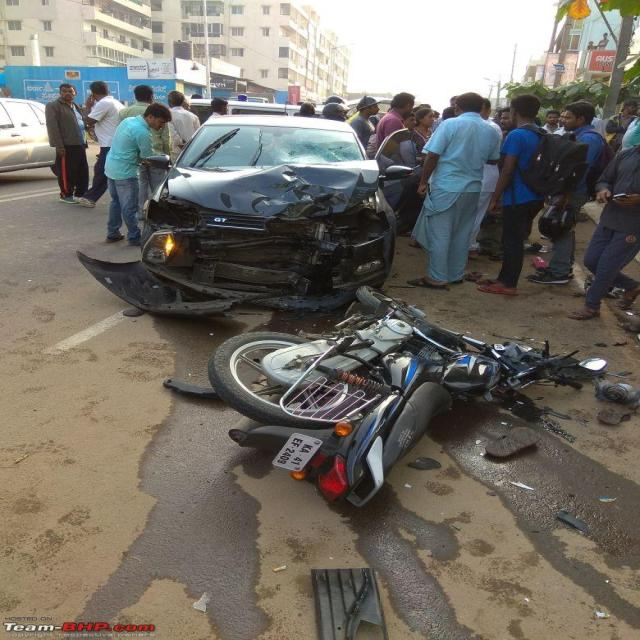accident: (207, 290, 581, 511), (91, 112, 395, 318)
car: (0, 98, 55, 172)
